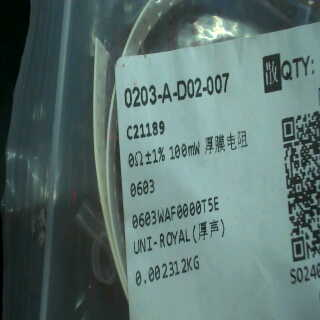0R: (127, 136, 202, 202)
